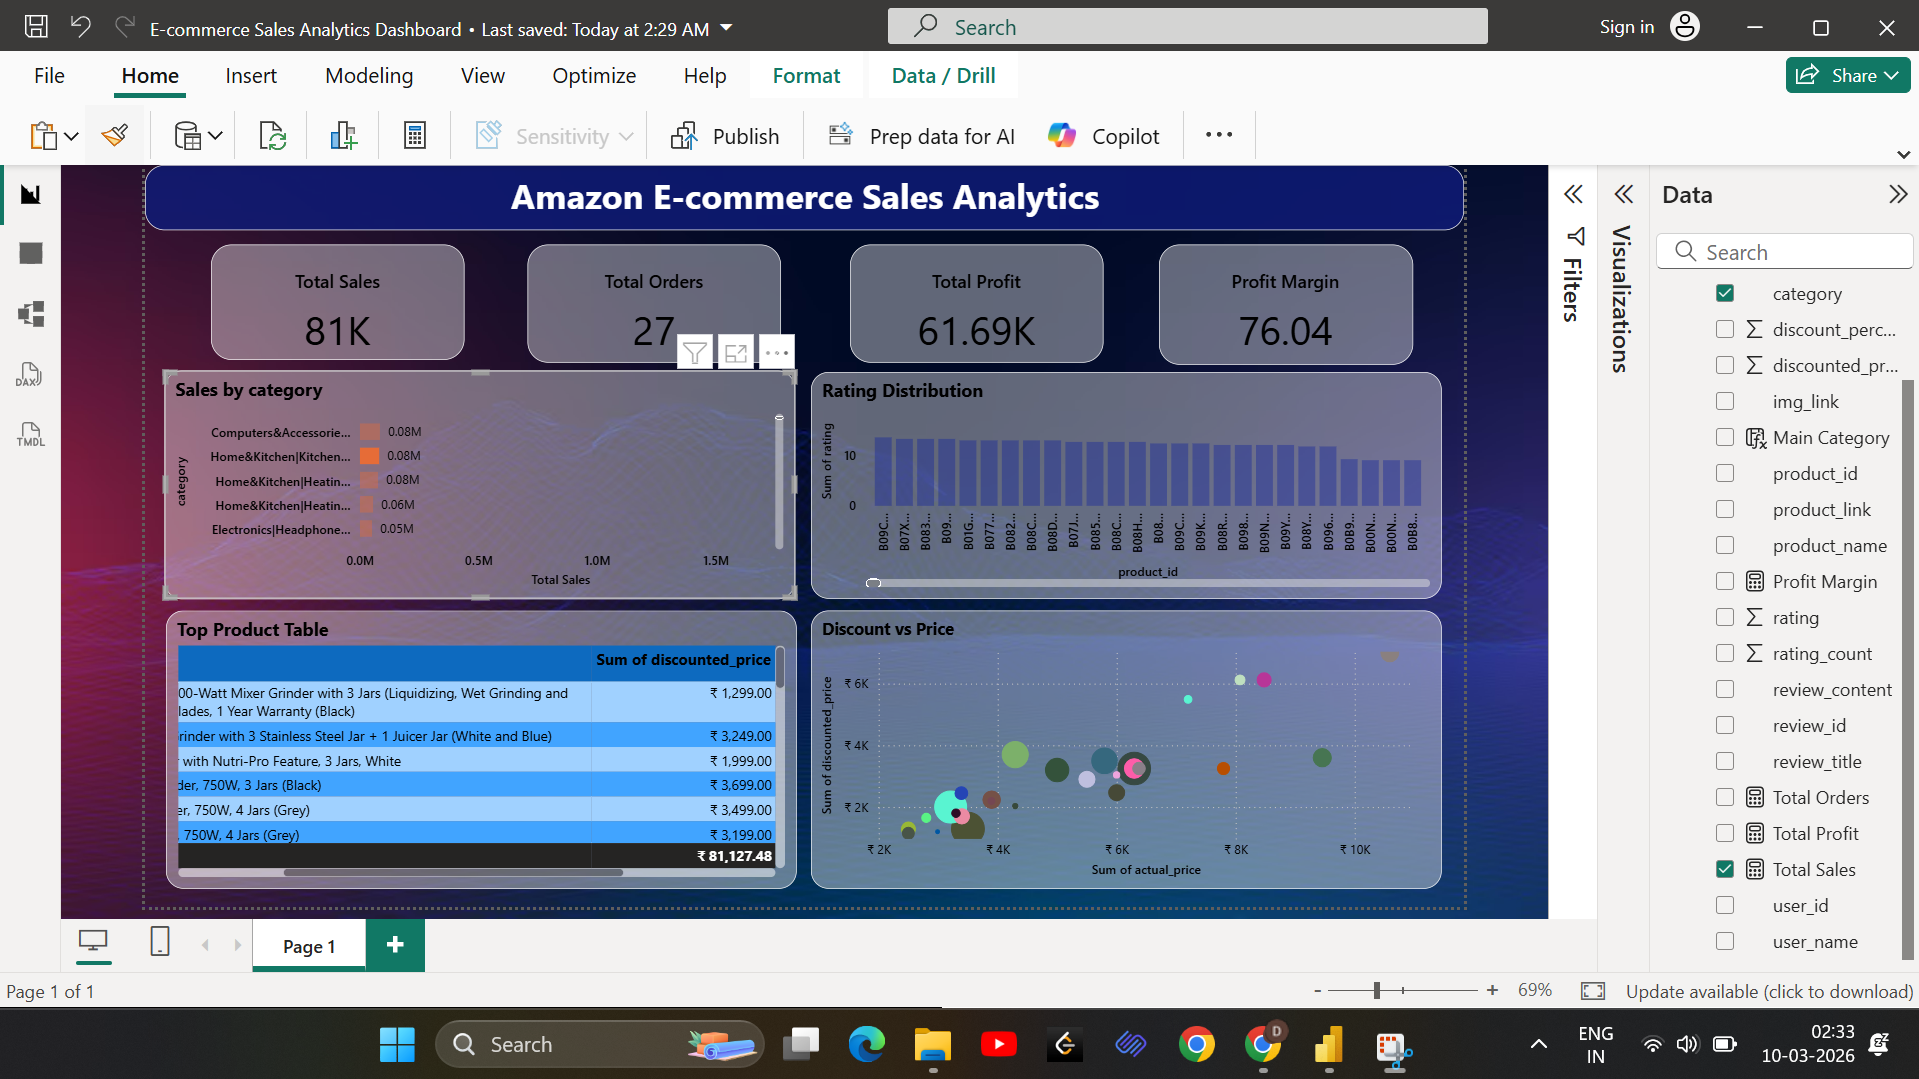

What the dashboard file says about the page in this screenshot:
{"tool":"powerbi","page":{"name":"Page 1","canvas":[1280,720],"ordinal":0},"visuals":[{"type":"textbox","title":"Amazon E-commerce Sales Analytics","box":[0,0,1280,63.3],"z":0},{"type":"cardVisual","fields":{"Data":["Amazon.Total Profit"]},"box":[683.8,77.3,246.1,115],"z":1000},{"type":"clusteredBarChart","title":"Sales by category","fields":{"Category":["Amazon.category"],"Y":["Amazon.Total Sales"]},"box":[19.4,199.2,612.1,221.8],"z":2000},{"type":"clusteredColumnChart","title":"Rating Distribution","fields":{"Y":["Sum(Amazon.rating)"],"Category":["Amazon.product_id"]},"box":[646.1,200.8,612.1,220.2],"z":3000},{"type":"tableEx","title":"Top Product Table","fields":{"Values":["Amazon.product_name","Sum(Amazon.discounted_price)","Sum(Amazon.rating)","Sum(Amazon.rating_count)"]},"box":[20,431.7,611.7,270],"z":4000},{"type":"scatterChart","title":"Discount vs Price","fields":{"X":["Sum(Amazon.actual_price)"],"Y":["Sum(Amazon.discounted_price)"],"Size":["Sum(Amazon.rating_count)"],"Category":["Amazon.product_name"]},"box":[646.7,431.7,611.7,270],"z":5000},{"type":"cardVisual","fields":{"Data":["Amazon.Profit Margin"]},"box":[983.3,76.7,246.7,116.7],"z":7000},{"type":"cardVisual","fields":{"Data":["Amazon.Total Orders"]},"box":[371.3,77.3,246.1,115],"z":8000},{"type":"cardVisual","fields":{"Data":["Amazon.Total Sales"]},"box":[63.6,77.3,246.1,111.7],"z":9000}]}

Visuals, with their boxes on the page's 1280x720 design canvas (x1, y1, x2, y2). These are canvas units, not pixel positions in the 1919x1079 screenshot, which may show the page scaled, cropped or inside an application window:
"Amazon E-commerce Sales Analytics" textbox: rect(0, 0, 1280, 63)
cardVisual - Amazon.Total Profit: rect(684, 77, 930, 192)
"Sales by category" clusteredBarChart: rect(19, 199, 632, 421)
"Rating Distribution" clusteredColumnChart: rect(646, 201, 1258, 421)
"Top Product Table" tableEx: rect(20, 432, 632, 702)
"Discount vs Price" scatterChart: rect(647, 432, 1258, 702)
cardVisual - Amazon.Profit Margin: rect(983, 77, 1230, 193)
cardVisual - Amazon.Total Orders: rect(371, 77, 617, 192)
cardVisual - Amazon.Total Sales: rect(64, 77, 310, 189)
